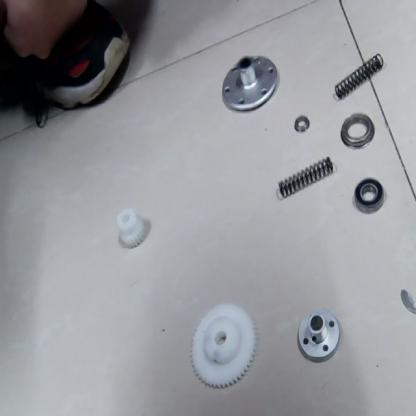FOD: (184, 302, 261, 392), (216, 50, 286, 115), (294, 304, 343, 369), (331, 51, 386, 102), (276, 154, 336, 200), (350, 178, 386, 216), (340, 113, 376, 150), (118, 207, 146, 252), (290, 112, 314, 138)
